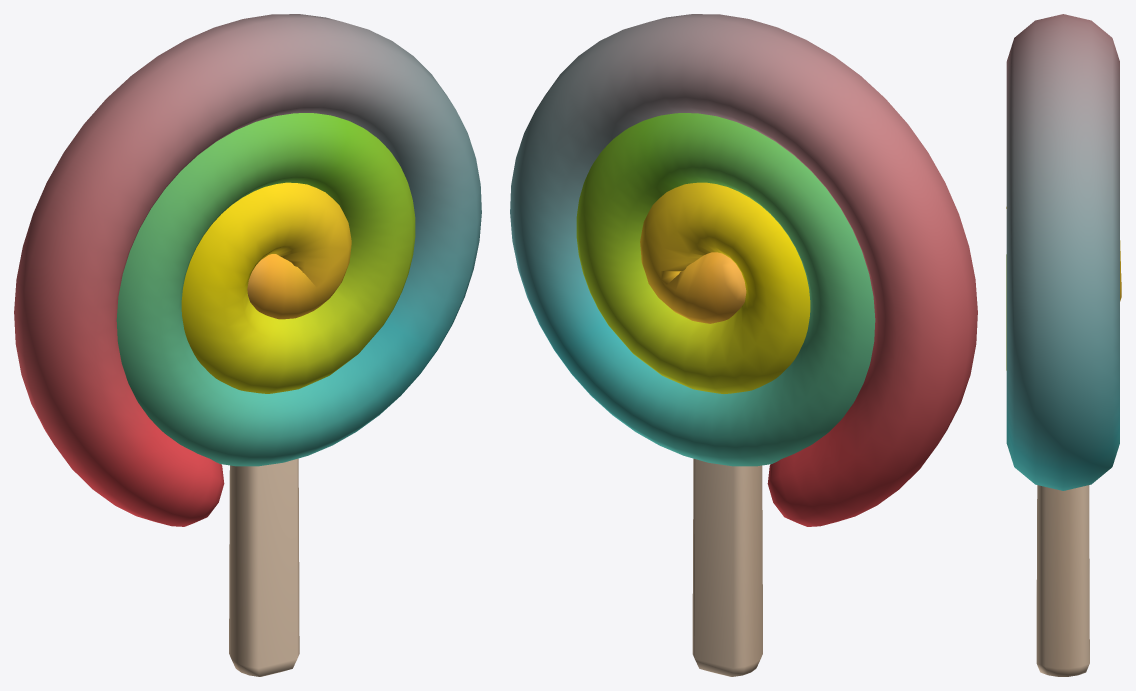
The model's file is candy.fbx.
3 views of the same model, side by side, from view 1: azimuth 30°, elevation 25°; view 2: azimuth 150°, elevation 25°; view 3: azimuth 270°, elevation 25° (orthographic). The views are drawn at different scales.
Visible parts, largest first — view 1: candy; view 2: candy; view 3: candy.
Boxes of the visible parts, x1=… form: candy: x1=14, y1=14, x2=481, y2=676; candy: x1=510, y1=14, x2=977, y2=676; candy: x1=1006, y1=14, x2=1121, y2=676.
Bounding box in the file's own units: 1.15 × 1.58 × 0.2636.
